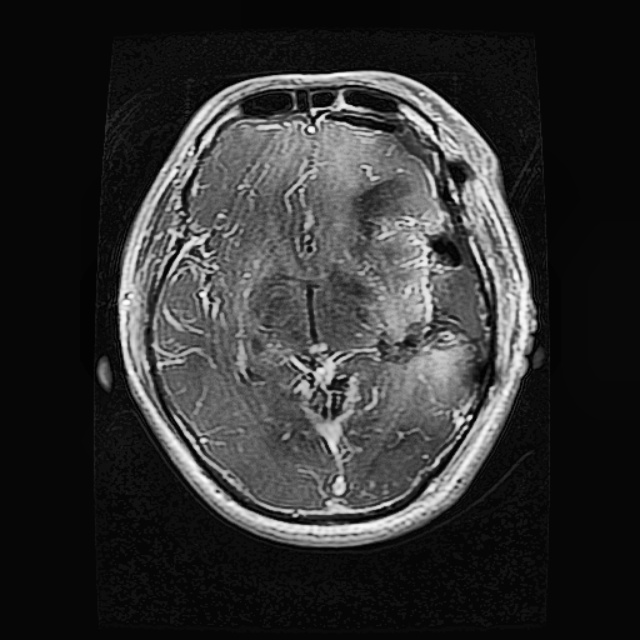Glioma: (354, 127, 483, 362)
